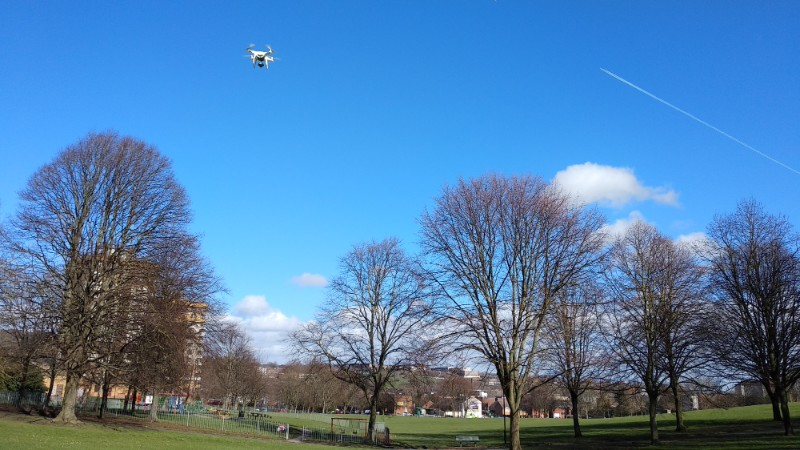drone: (241, 43, 279, 70)
